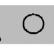no answer: (22, 12, 46, 35)
